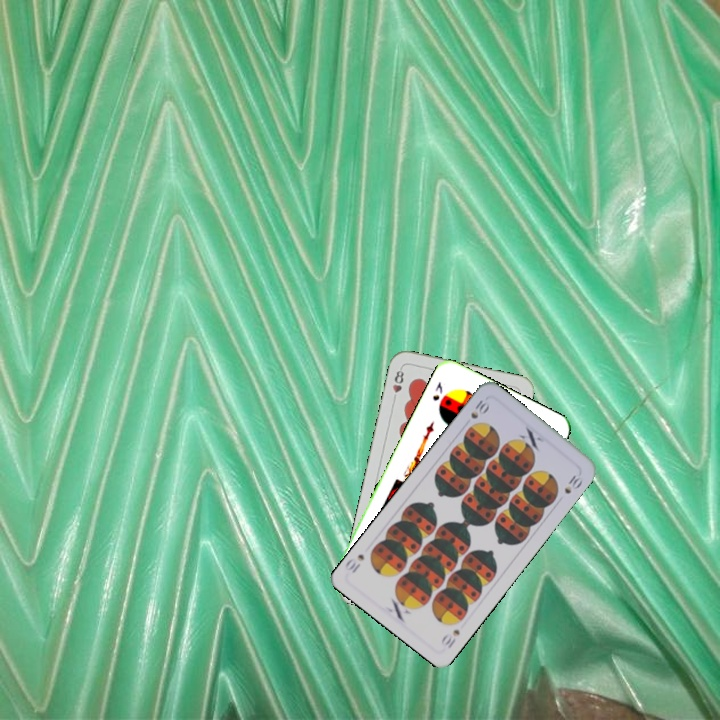H8: (389, 364, 407, 404)
S10: (466, 396, 493, 422), (437, 625, 462, 651)
SK: (428, 378, 445, 403)
